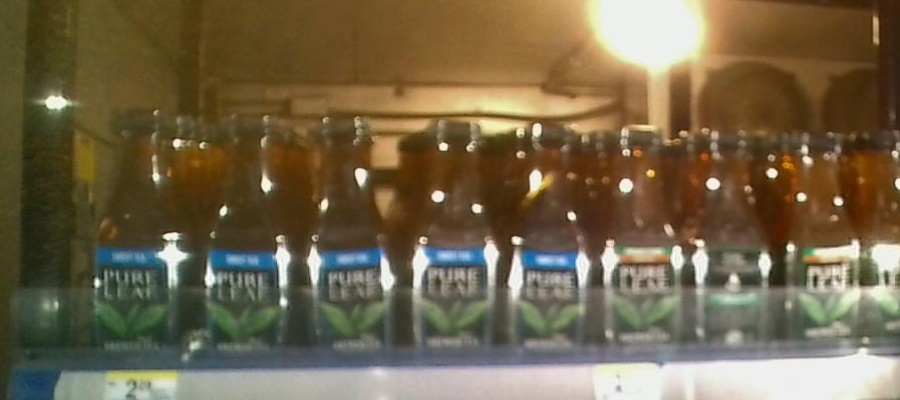bottle: (297, 108, 402, 367), (193, 109, 294, 364), (91, 105, 189, 364), (406, 104, 502, 363), (505, 109, 595, 367), (600, 104, 684, 366), (690, 116, 778, 357), (784, 121, 861, 355), (864, 128, 900, 349)
